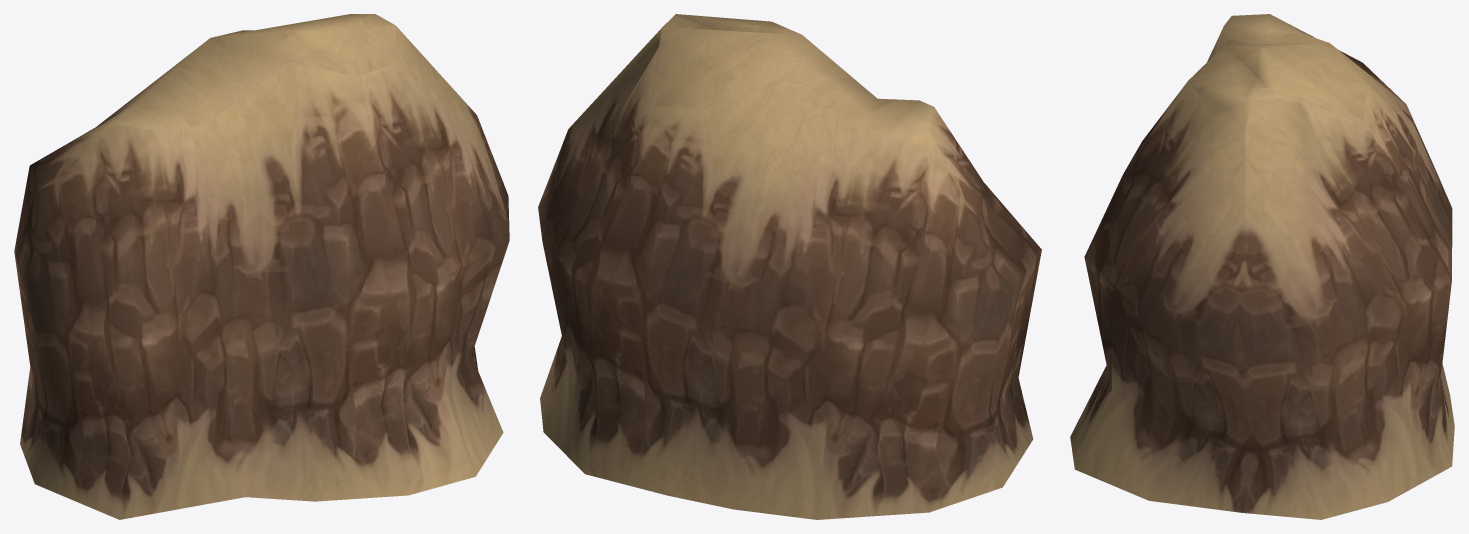
File: FB5_dashati_5.FBX
3 renders of one model, left to right at view 1: azimuth 30°, elevation 25°; view 2: azimuth 150°, elevation 25°; view 3: azimuth 270°, elevation 25°, orthographic. The views are drawn at different scales.
Visible parts, largest first — view 1: FB5_dashati_5; view 2: FB5_dashati_5; view 3: FB5_dashati_5.
Boxes of the visible parts, <box> form: FB5_dashati_5: <box>14,14,509,519</box>; FB5_dashati_5: <box>538,14,1041,519</box>; FB5_dashati_5: <box>1070,14,1454,519</box>.
Size of the model in its own units: 6405 by 5287 by 4819.
Materials: 1 (1 with a texture image).
